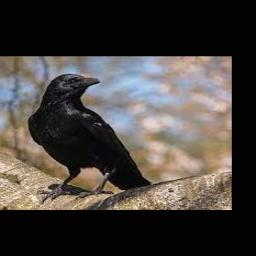Crow: (27, 74, 152, 201)
